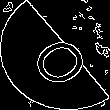O_NE: (18, 22, 92, 88)
